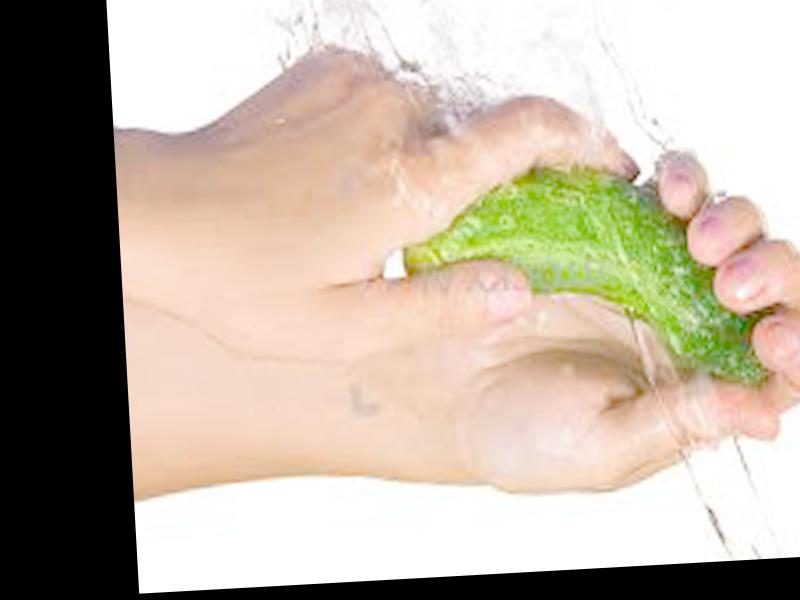Cucumber: (395, 151, 770, 404)
